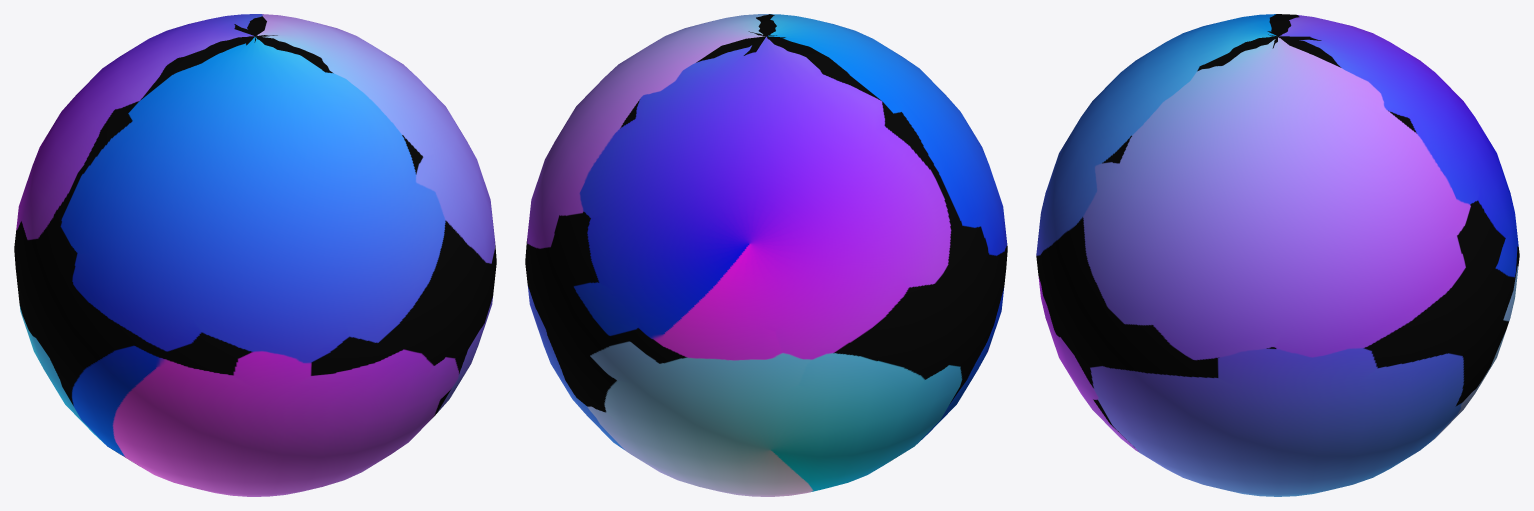
Rendered from bouleTrans.glb.
3 renders of one model, left to right at view 1: azimuth 30°, elevation 25°; view 2: azimuth 150°, elevation 25°; view 3: azimuth 270°, elevation 25°, orthographic.
Visible parts, largest first — view 1: Sphere; view 2: Sphere; view 3: Sphere.
Boxes of the visible parts, bbox=[...] form: Sphere: bbox=[14, 14, 496, 496]; Sphere: bbox=[525, 14, 1007, 496]; Sphere: bbox=[1036, 14, 1519, 496].
Bounding box in the file's own units: 2.8 × 2.8 × 2.8.
Materials: 1 (1 with a texture image).
